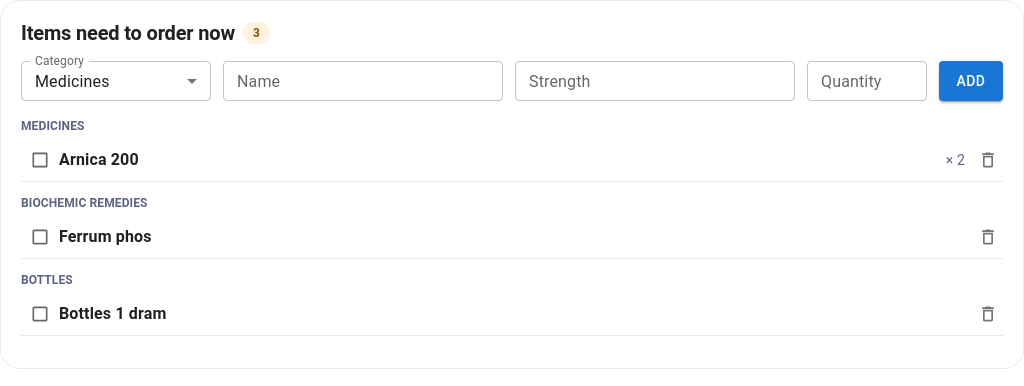
a general clinic picks from its own categories but still lists older items
Expected: the heading "Biochemic remedies" is shown, [21,196,148,210]
Expected: the text "Ferrum phos" is shown, [59,227,152,246]
Click the dropdown named "Category": {"x": 72, "y": 81} [35,72,110,90]
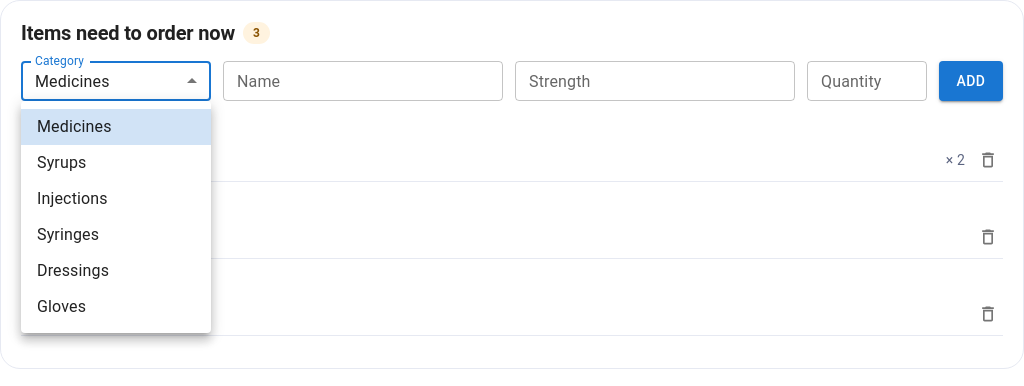
Now the options read "Medicines", "Syrups", "Injections", "Syringes", "Dressings", "Gloves", in this order, box [21,109,211,145]; [37,153,86,172]; [37,189,108,208]; [37,225,99,244]; [37,261,109,280]; [37,297,86,316]
